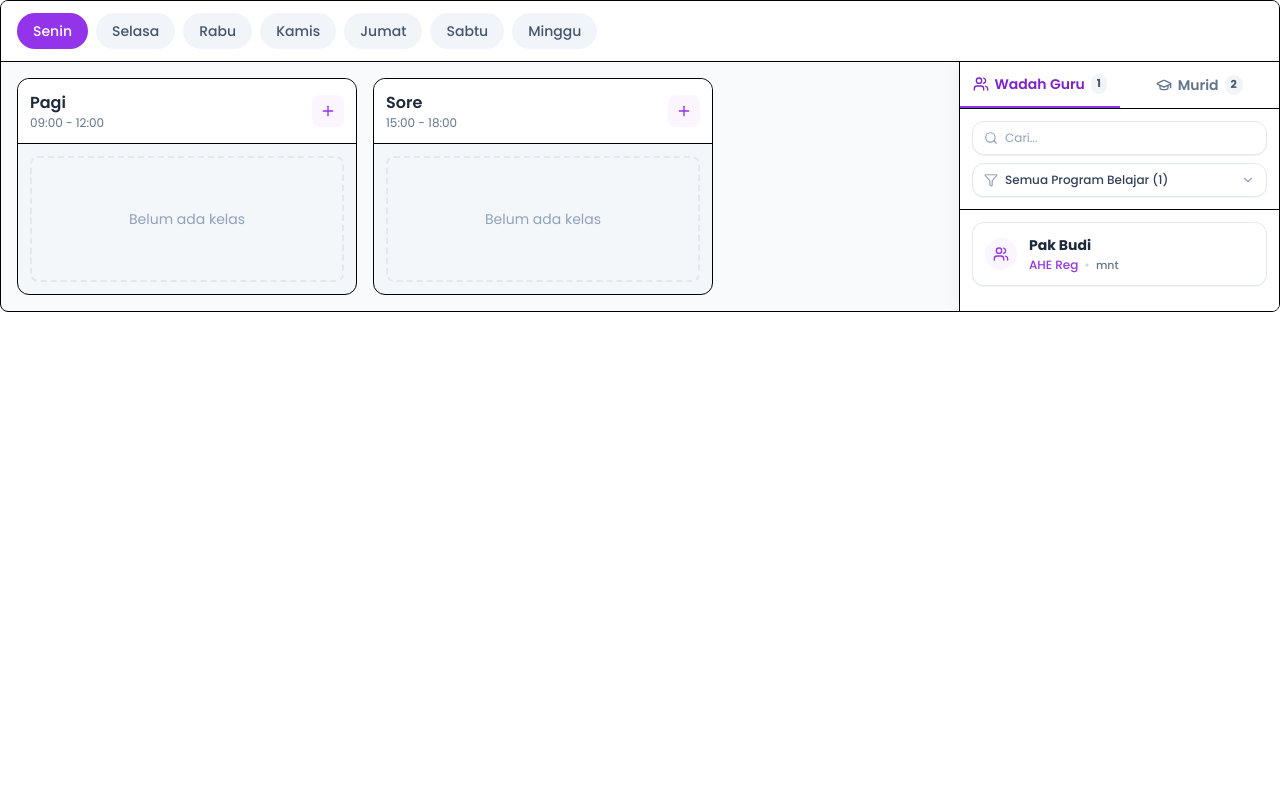
Test: KanbanBoard Component › opens AddClassModal when Tambah Kelas is clicked
Click the first one (Pagi)
Click the button titled "Tambah Kelas" in the row of "12:00" at coordinates (328, 111), box [312,95,344,127]
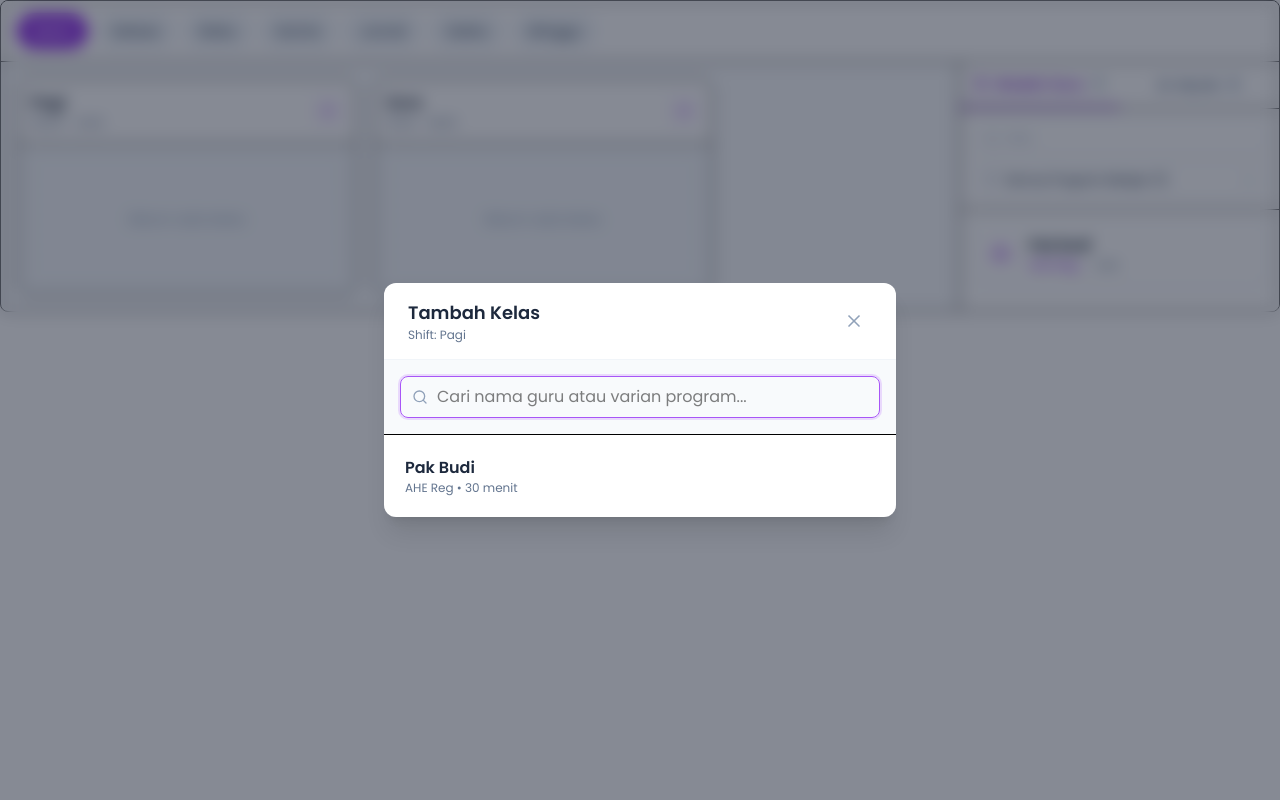
expect the heading "Tambah Kelas" is shown: met, box [408,299,540,327]
expect the text "Shift: Pagi" is shown: met, box [408,326,466,343]
